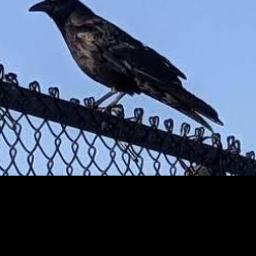Crow: (28, 0, 224, 133)
